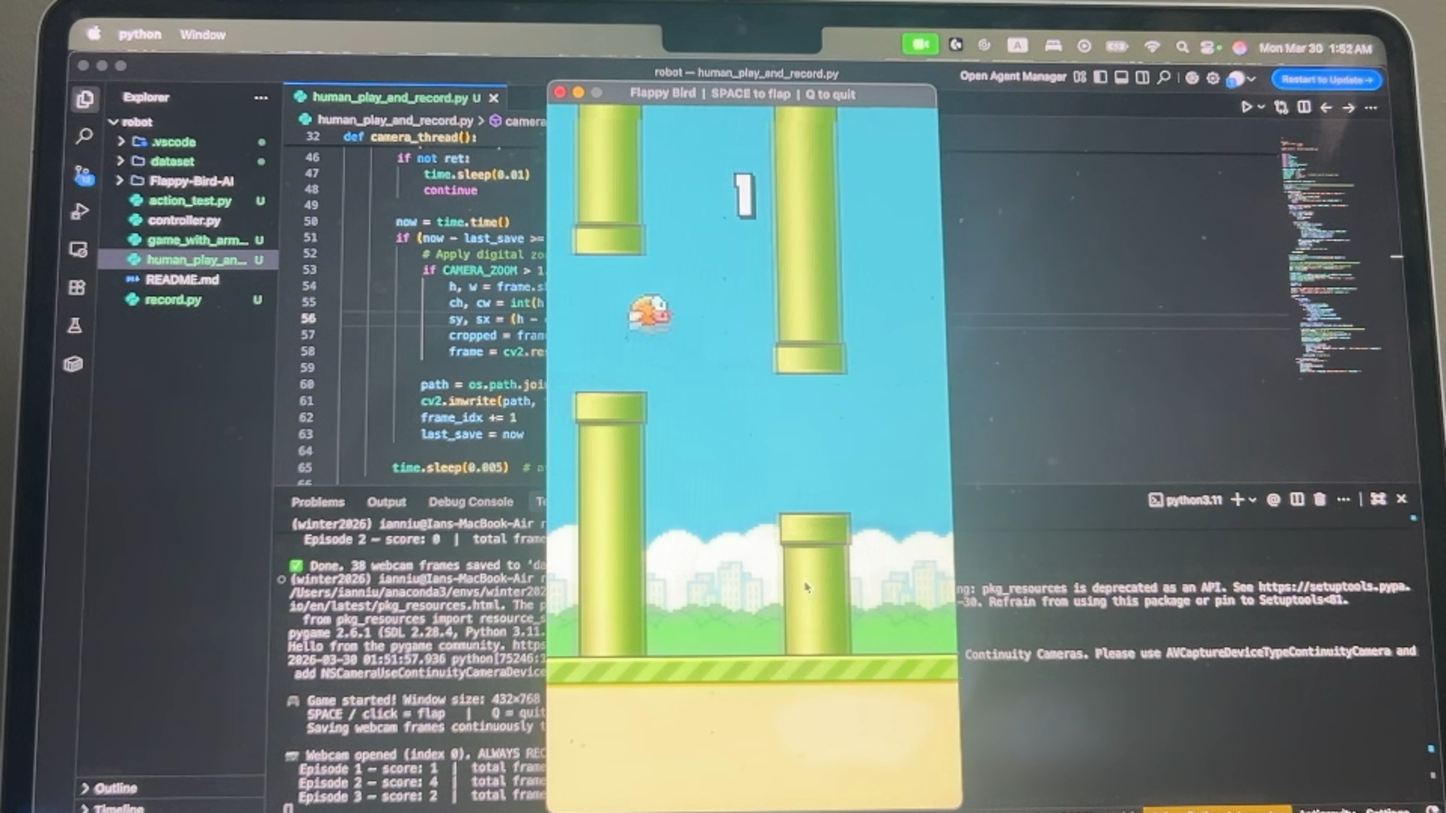bird: (624, 289, 676, 340)
green pipes: (775, 107, 846, 373), (576, 393, 647, 658), (571, 105, 642, 253), (782, 512, 851, 656)
